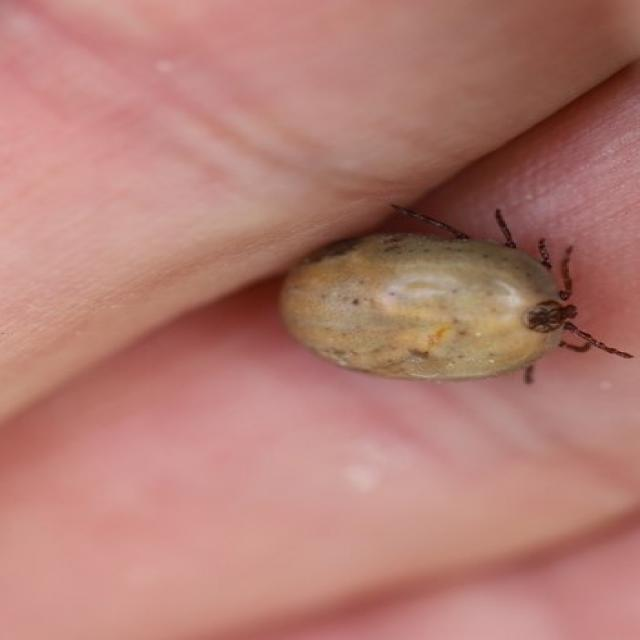Dermacentor Reticulatus-F-Fed: (279, 204, 635, 385)
